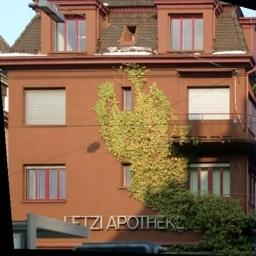building: (9, 0, 251, 250)
